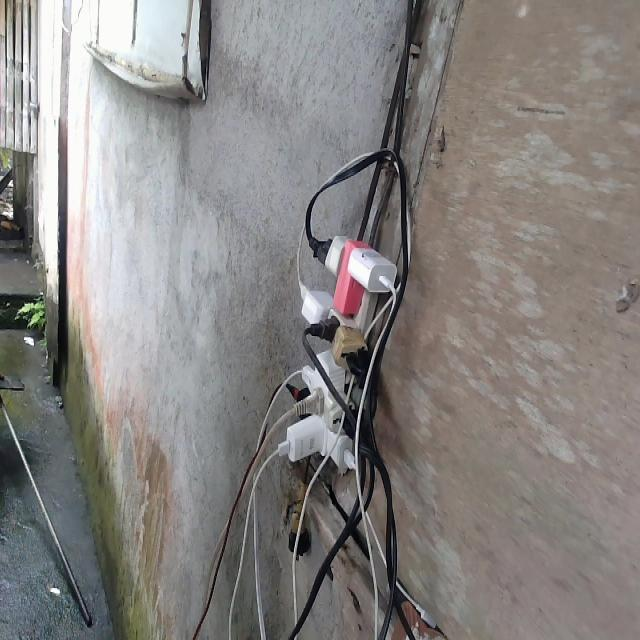-: (274, 234, 395, 474)
